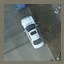car: (18, 14, 45, 50)
